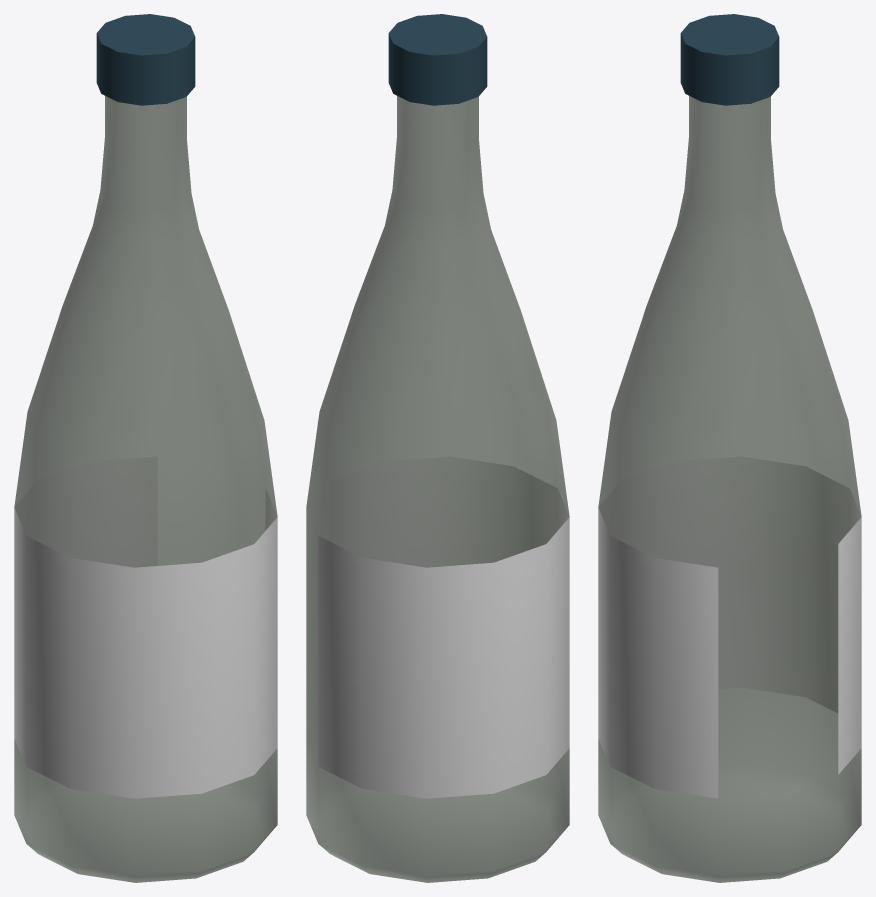
The model's file is S_Bottle.fbx.
The picture shows the model from 3 angles, left to right: view 1: azimuth 30°, elevation 25°; view 2: azimuth 150°, elevation 25°; view 3: azimuth 270°, elevation 25°; orthographic projection.
Visible parts, largest first — view 1: S_Bottle; view 2: S_Bottle; view 3: S_Bottle.
Part boxes in pixels (left/top/right/bottom): S_Bottle: left=14, top=14, right=277, bottom=882; S_Bottle: left=306, top=14, right=569, bottom=882; S_Bottle: left=598, top=14, right=861, bottom=882.
Bounding box in the file's own units: 13.39 × 44.77 × 13.39.
